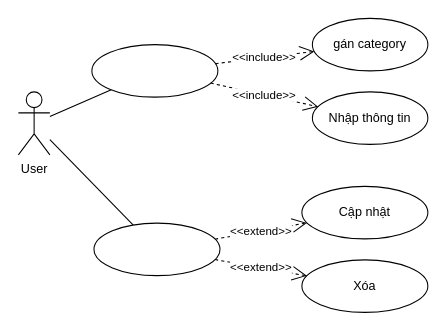
Some shapes in this 446 by 331 pixel diagram are drawn without their labels. The shapes that lost their labels are listed below. From the top down, each one's centre as x and y in pixels, then its label:
At pixel 154 70: "Tạo tin tuyển dụng".
At pixel 156 249: "Chọn tin tuyển dụng".
